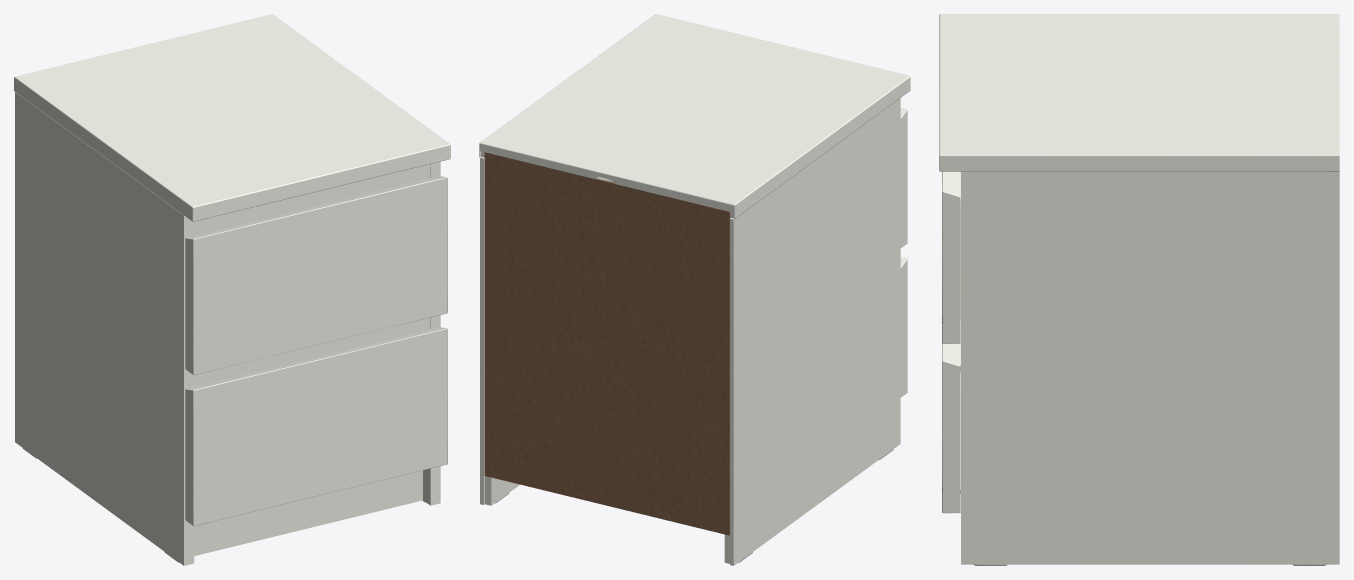
The model's file is nightstand_malm_50336552.glb.
3 views of the same model, side by side, from view 1: azimuth 30°, elevation 25°; view 2: azimuth 150°, elevation 25°; view 3: azimuth 270°, elevation 25° (orthographic). The views are drawn at different scales.
Parts seen in each view (by area): view 1: model; view 2: model; view 3: model.
Boxes of the visible parts, bbox=[...] form: model: bbox=[14, 14, 450, 565]; model: bbox=[479, 14, 910, 565]; model: bbox=[939, 14, 1339, 565].
Size of the model in its own units: 0.403 by 0.5474 by 0.4821.
1 material, 1 textured.
